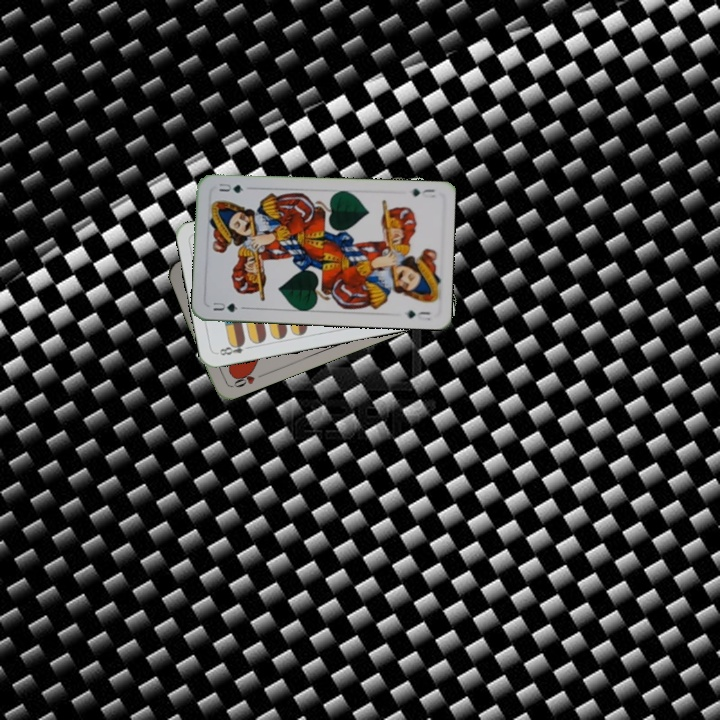E8: (215, 337, 254, 358)
GU: (209, 298, 247, 315), (408, 185, 438, 200)
HO: (227, 366, 266, 390)
